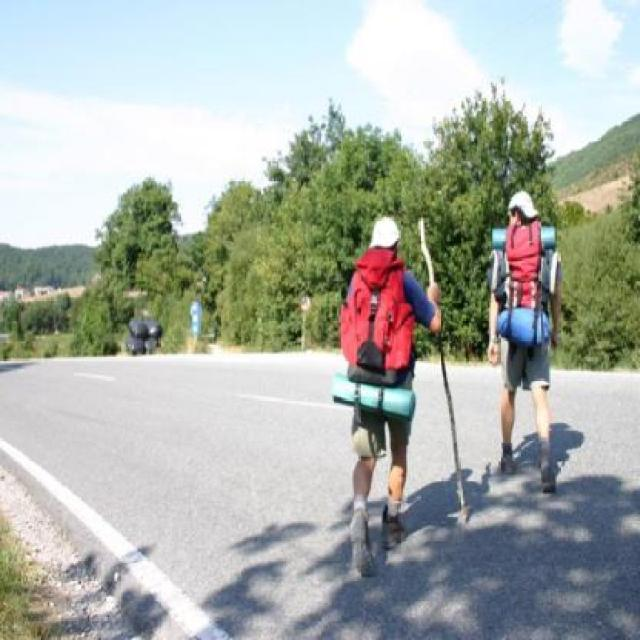backpack: (337, 251, 417, 389), (489, 223, 562, 351)
